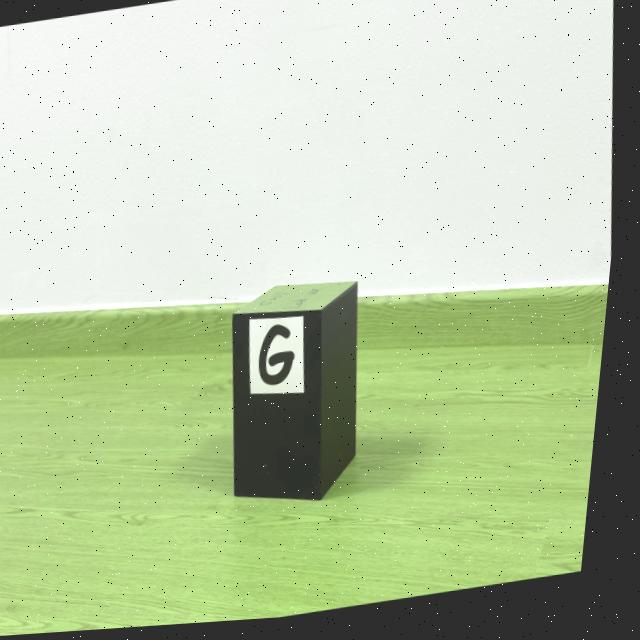G: (266, 328, 301, 390)
